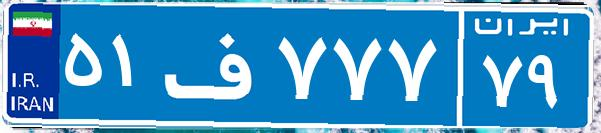1: (110, 28, 158, 105)
5: (57, 26, 110, 107)
7: (385, 28, 445, 110), (273, 28, 330, 110), (330, 28, 385, 110), (475, 38, 525, 113)
9: (525, 38, 570, 115)
ف: (158, 15, 273, 115)
